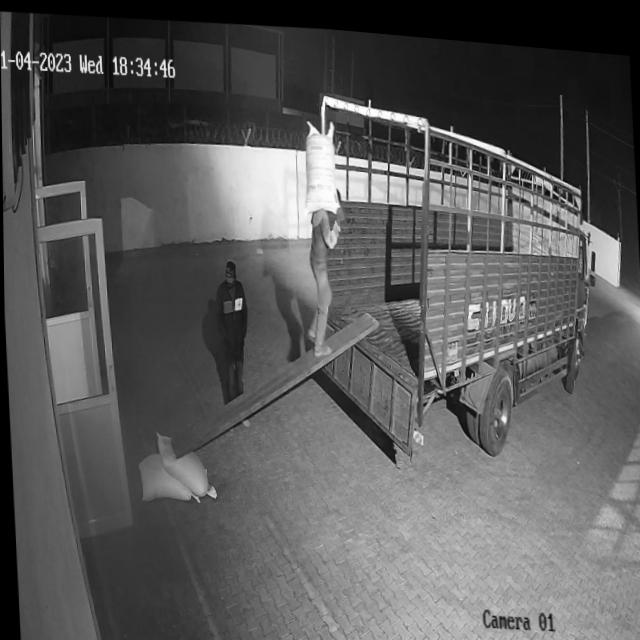sack: (153, 423, 215, 497), (299, 111, 339, 212), (135, 446, 198, 500)
